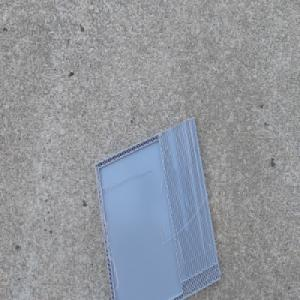PlasticPart: (93, 116, 222, 300)
